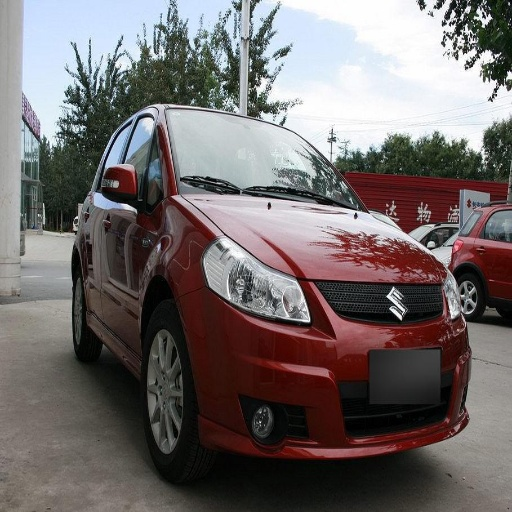front_bumper: (182, 279, 470, 458)
front_right_door: (103, 110, 167, 343)
front_right_light: (204, 236, 315, 325)
